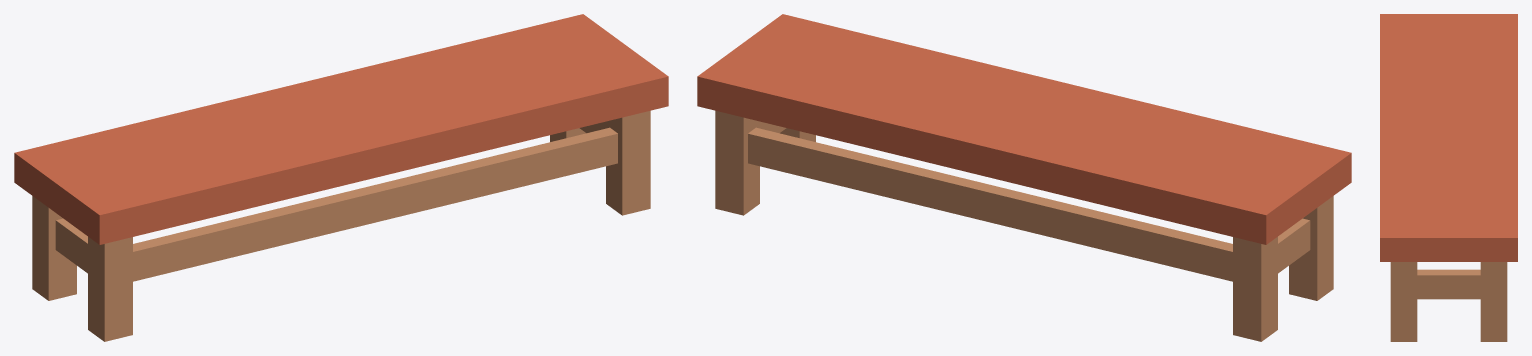
The model's file is Bench.fbx.
3 views of the same model, side by side, from view 1: azimuth 30°, elevation 25°; view 2: azimuth 150°, elevation 25°; view 3: azimuth 270°, elevation 25° (orthographic). The views are drawn at different scales.
Parts seen in each view (by area): view 1: mergedBlocks; view 2: mergedBlocks; view 3: mergedBlocks.
Boxes of the visible parts, x1,y1,x2,y2 form: mergedBlocks: (14,14,668,341); mergedBlocks: (697,14,1351,341); mergedBlocks: (1380,14,1517,341).
Bounding box in the file's own units: 100 × 22.55 × 26.
